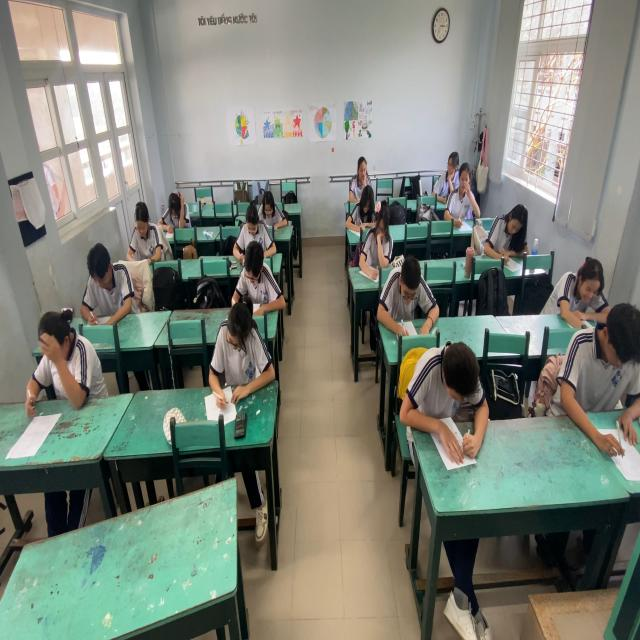not_cheating: (566, 305, 640, 471), (402, 342, 487, 458), (32, 309, 92, 416), (375, 253, 439, 339), (74, 235, 128, 335), (220, 299, 262, 405), (548, 252, 606, 327), (229, 243, 283, 316), (490, 188, 526, 266), (124, 200, 160, 274), (360, 198, 391, 272), (442, 164, 477, 223), (260, 179, 286, 244), (239, 206, 270, 256), (160, 178, 188, 229), (438, 140, 458, 187), (348, 184, 372, 223), (352, 146, 372, 189)
